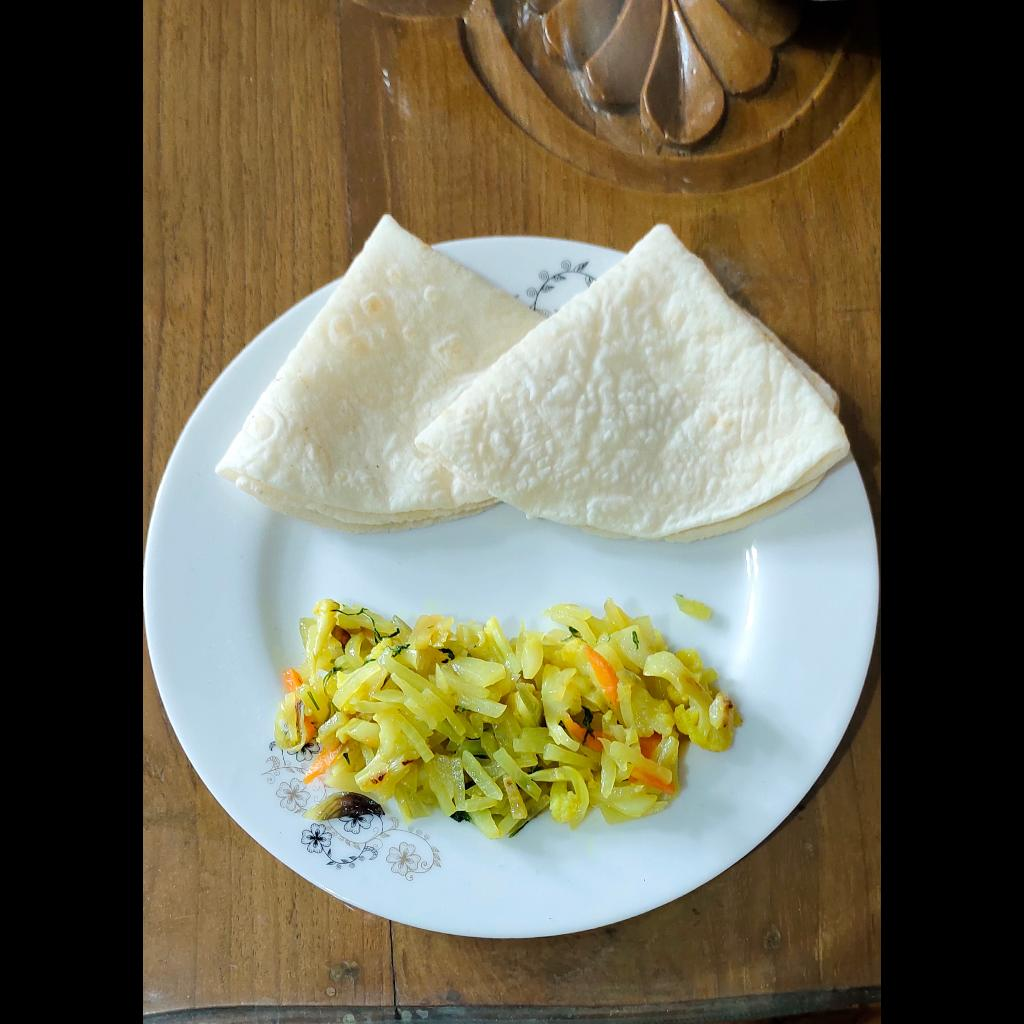cauliflower: (645, 640, 736, 755)
kumra-vaji: (281, 595, 683, 853)
ruti: (212, 203, 851, 539)
